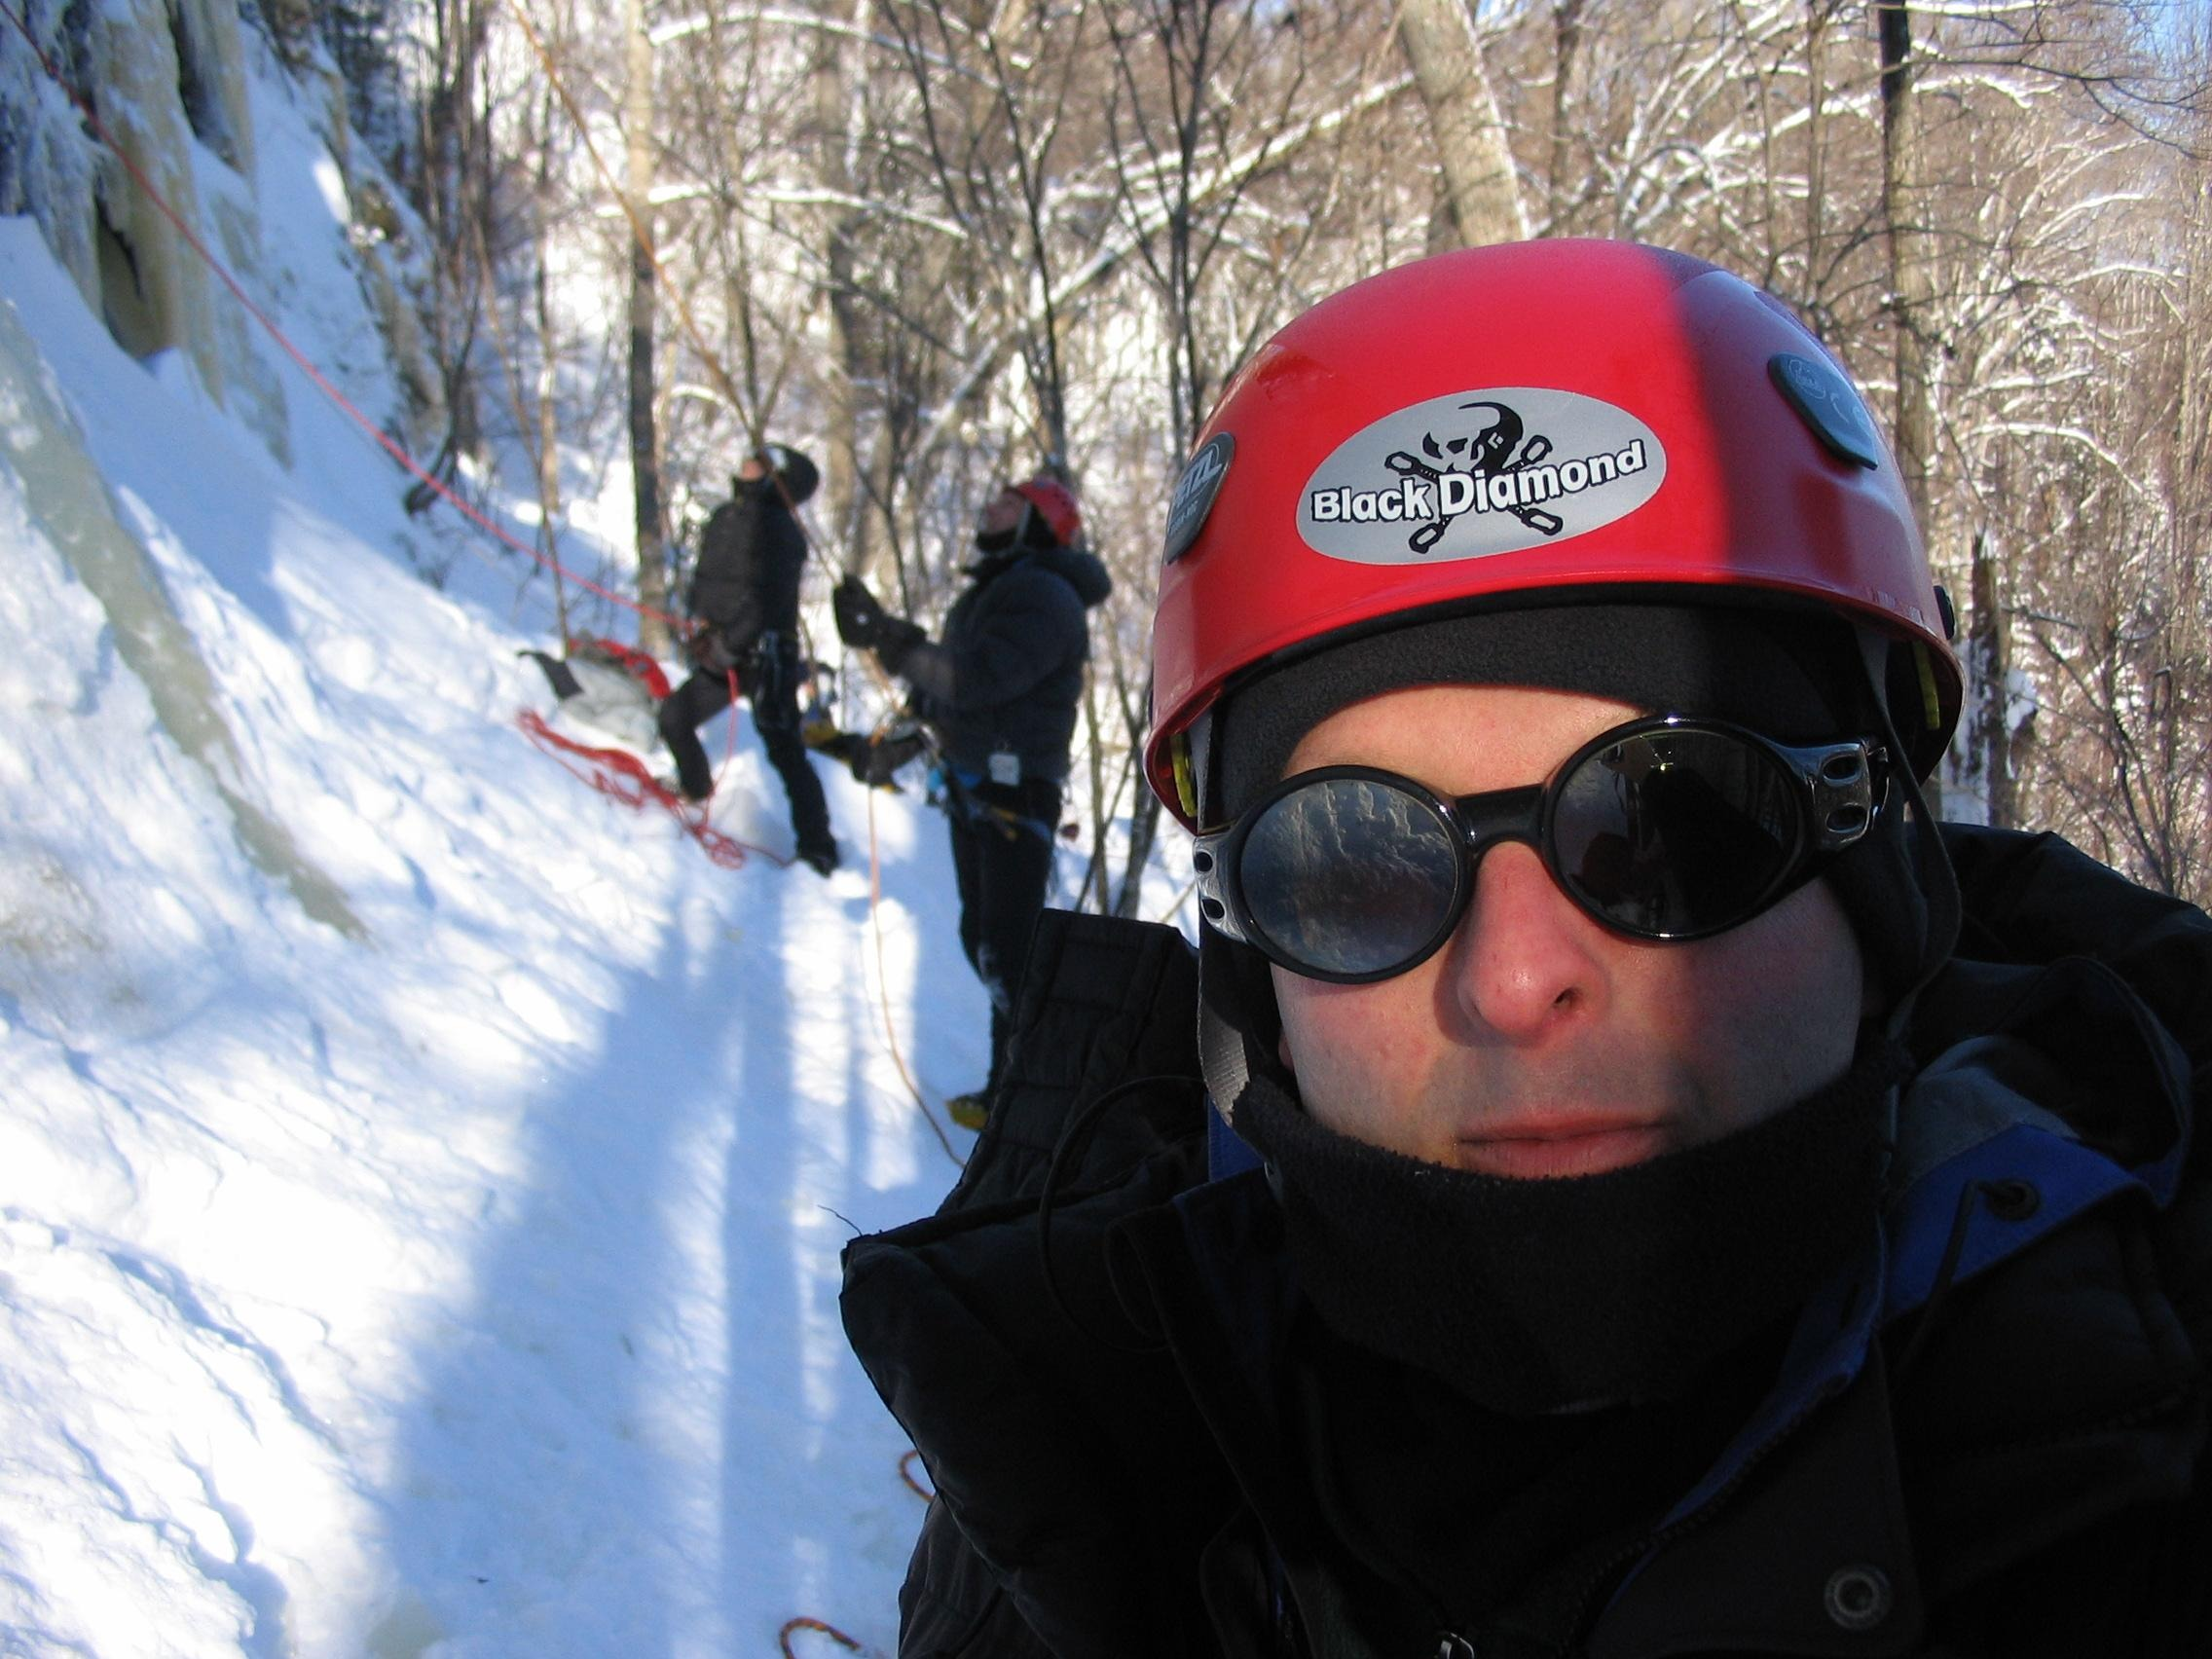helmet: (1120, 220, 1980, 842), (988, 462, 1097, 563)
